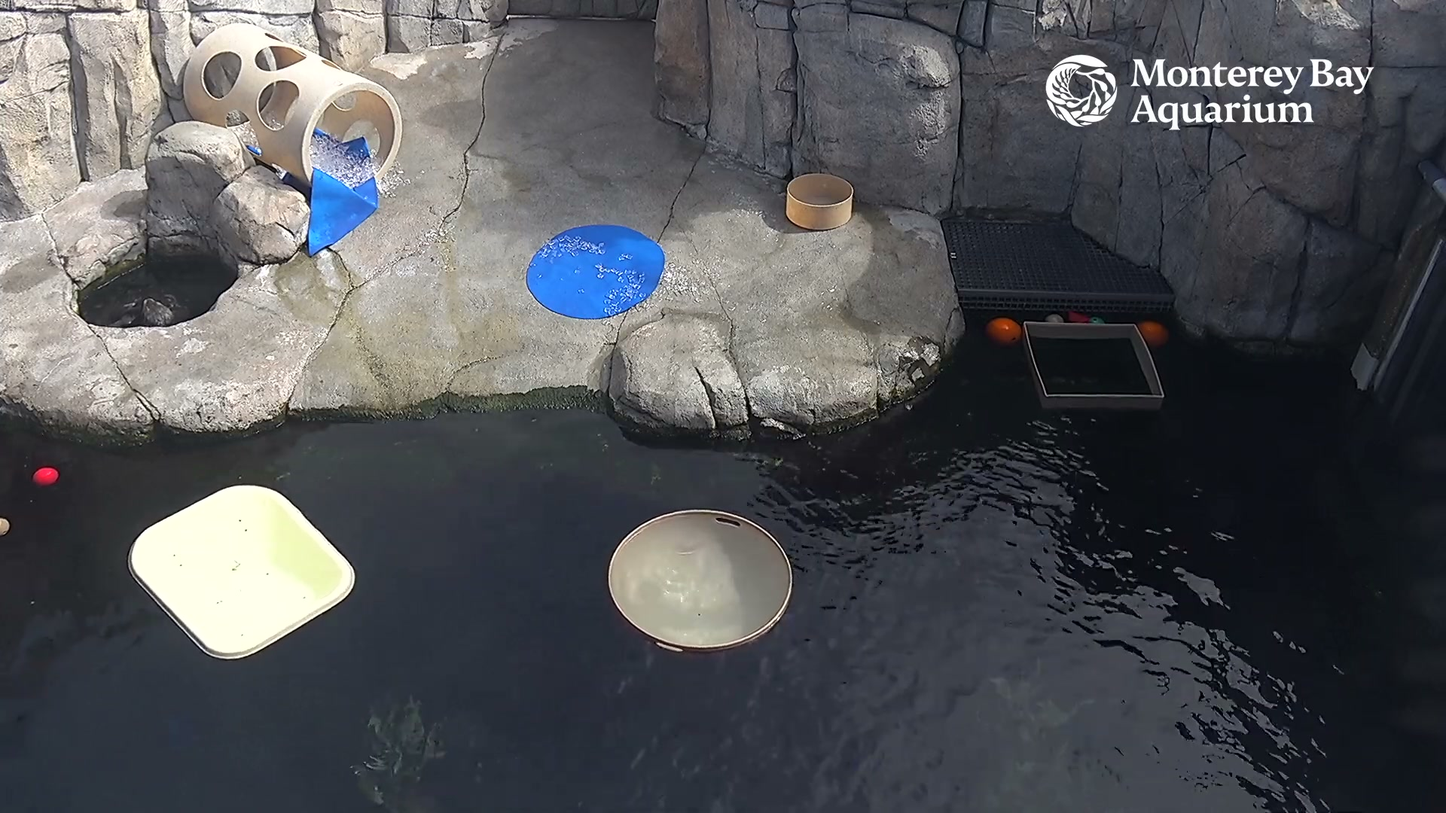Southern Sea Otter: (118, 273, 196, 339)
